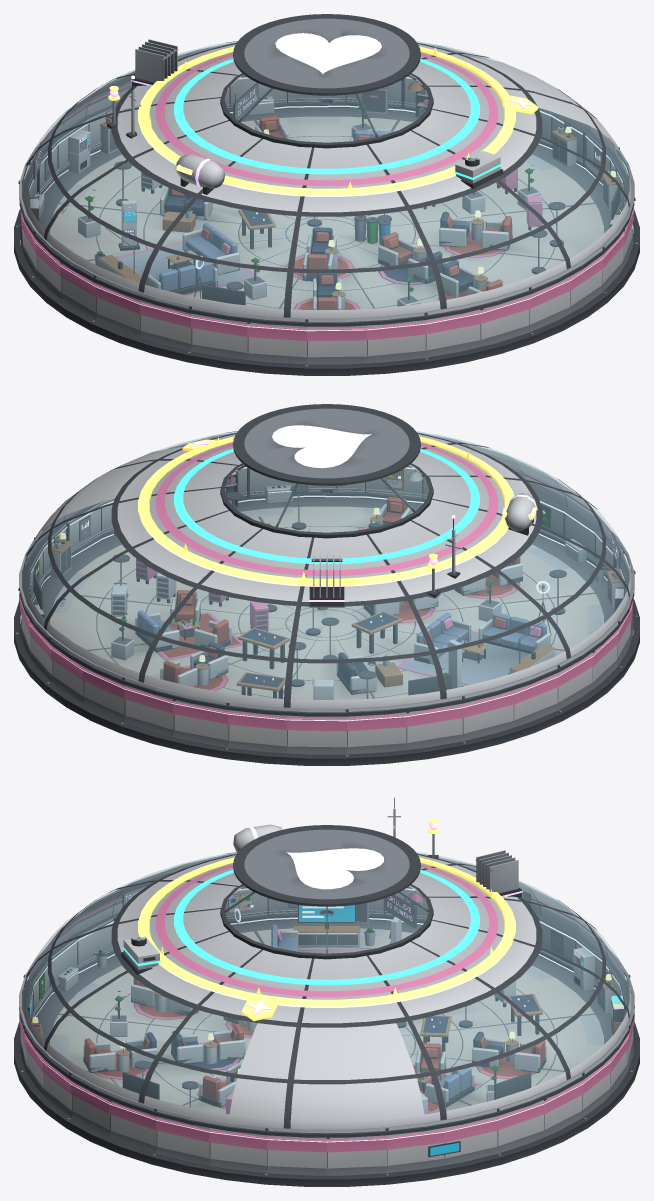
Rendered from lounge_l.glb.
3 views of the same model, one above another, from view 1: azimuth 30°, elevation 25°; view 2: azimuth 150°, elevation 25°; view 3: azimuth 270°, elevation 25° (orthographic).
Visible parts, largest first — view 1: Roof, Base, Interior, L5, L3, L4, Wall_21, Wall_20, Wall_22, Wall_19, Wall_23, Wall_18 (+22 smaller); view 2: Roof, Base, Interior, L5, L3, L4, Wall_10, Wall_11, Wall_09, Wall_12, Wall_08, Wall_13 (+22 smaller); view 3: Roof, Base, Interior, L5, L3, L4, Wall_00, Wall_31, Wall_30, Wall_01, Wall_29, Wall_02 (+22 smaller).
Part boxes in pixels (left/top/right/bottom): Roof: left=19, top=14, right=634, bottom=326; Base: left=14, top=107, right=639, bottom=375; Interior: left=60, top=99, right=588, bottom=309; L5: left=107, top=46, right=538, bottom=195; L3: left=174, top=58, right=503, bottom=192; L4: left=131, top=39, right=512, bottom=201; Wall_21: left=307, top=325, right=367, bottom=364; Wall_20: left=247, top=321, right=306, bottom=364; Wall_22: left=367, top=320, right=425, bottom=363; Wall_19: left=191, top=313, right=247, bottom=359; Wall_23: left=425, top=309, right=480, bottom=357; Wall_18: left=139, top=300, right=191, bottom=351; Roof: left=19, top=404, right=634, bottom=716; Base: left=14, top=497, right=639, bottom=765; Interior: left=52, top=484, right=602, bottom=699; L5: left=138, top=436, right=514, bottom=598; L3: left=174, top=448, right=479, bottom=564; L4: left=141, top=493, right=537, bottom=607; Wall_10: left=286, top=715, right=346, bottom=754; Wall_11: left=347, top=712, right=406, bottom=754; Wall_09: left=228, top=710, right=286, bottom=753; Wall_12: left=406, top=703, right=462, bottom=749; Wall_08: left=173, top=698, right=228, bottom=747; Wall_13: left=462, top=690, right=514, bottom=741; Roof: left=19, top=825, right=634, bottom=1137; Base: left=14, top=919, right=639, bottom=1186; Interior: left=50, top=905, right=602, bottom=1114; L5: left=138, top=819, right=515, bottom=1021; L3: left=121, top=869, right=479, bottom=985; L4: left=158, top=824, right=522, bottom=1007; Wall_00: left=327, top=1135, right=386, bottom=1175; Wall_31: left=267, top=1135, right=326, bottom=1175; Wall_30: left=209, top=1128, right=267, bottom=1173; Wall_01: left=386, top=1128, right=444, bottom=1173; Wall_29: left=156, top=1116, right=209, bottom=1165; Wall_02: left=444, top=1116, right=497, bottom=1165.
Bounding box in the file's own units: 18.96 × 6.36 × 18.96.
